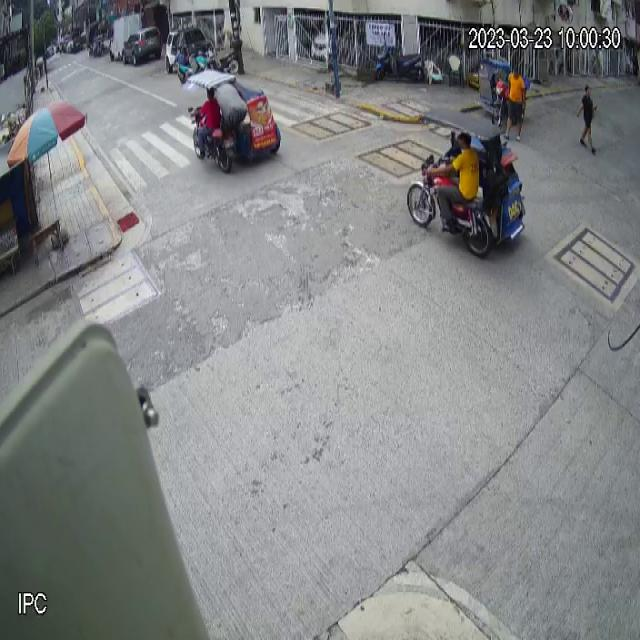Tricycle: (406, 109, 525, 257), (184, 67, 281, 174)
